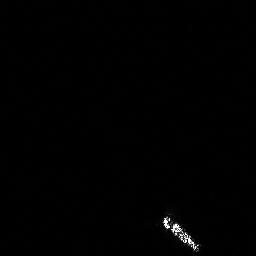ship: (157, 211, 205, 255)
